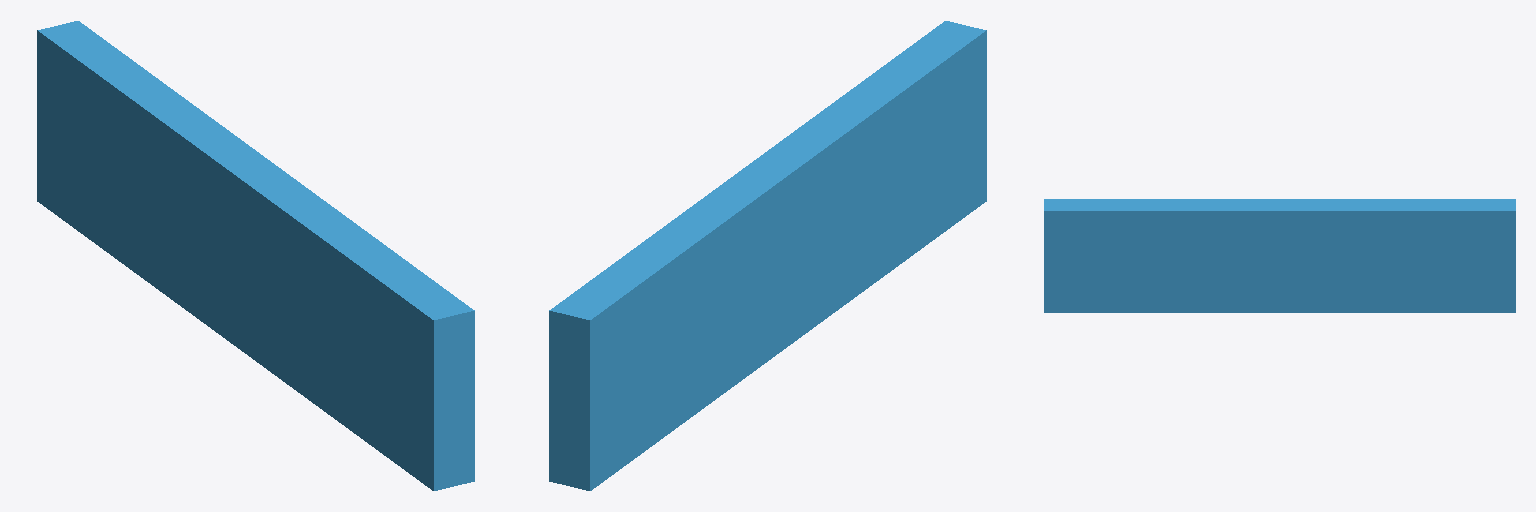
robot.urdf — box_45:
<?xml version="1.0" encoding="utf-8"?>    
    
    <robot name="box_45">
        <link name="box_45">    
            <fem>
                <origin rpy="0.0 0.0 0.0" xyz="0 0 0" />
                <density value="100" />
                <youngs value="957"/>
                <poissons value="0.3"/>
                <damping value="0.0" /> 
                <attachDistance value="0.01"/>
                <tetmesh filename="../../../../Custom_mesh/physical_dvrk/multi_box_1kPa/box_45.tet"/>
                <scale value="1.0"/>
            </fem>
        </link>
        
        <link name="fix_frame">
            <visual>
                <origin xyz="-10.083 0.0 0.0"/>              
                <geometry>
                    <box size="0.005 0.084 0.020"/>
                </geometry>
            </visual>
            <collision>
                <origin xyz="-0.083 0.0 0.0"/>              
                <geometry>
                    <box size="0.005 0.084 0.020"/>
                </geometry>
            </collision>
            <inertial>
                <mass value="500000"/>
                <inertia ixx="0.05" ixy="0.0" ixz="0.0" iyy="0.05" iyz="0.0" izz="0.05"/>
            </inertial>
        </link>
        
        <joint name = "attach" type = "fixed">
            <origin xyz = "0.0 0.0 0.0" rpy = "0 0 0"/>
            <parent link = "box_45"/>
            <child link = "fix_frame"/>
        </joint>  
        
    </robot>
    

--- What the picture shows (computed from the rendered views, not written in the file) ---
Views: 3 orthographic renders of the robot side by side, from view 1: azimuth 30°, elevation 25°; view 2: azimuth 150°, elevation 25°; view 3: azimuth 270°, elevation 25°.
Robot: box_45 — 2 links, 1 joints (1 fixed); root link box_45; default pose: all joints at 0.
Visible links, largest first — view 1: fix_frame; view 2: fix_frame; view 3: fix_frame.
Boxes of the visible links, box(x1,y1,x2,y2) form: fix_frame: box(37, 21, 474, 490); fix_frame: box(549, 21, 986, 490); fix_frame: box(1044, 199, 1515, 312).
Bounding box of the posed robot: 0.005 × 0.084 × 0.02 m (x, y, z).
Geometry: primitives only (box / cylinder / sphere), no mesh files.